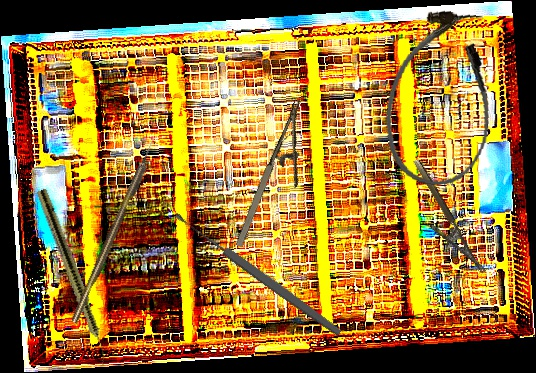Cannula: (376, 3, 506, 193)
Handpiece: (33, 188, 114, 366)
Hook Surgical: (69, 136, 160, 325)
Needle Holder: (231, 97, 330, 258), (397, 157, 487, 285)
Surgical Spoon: (172, 209, 344, 339)
